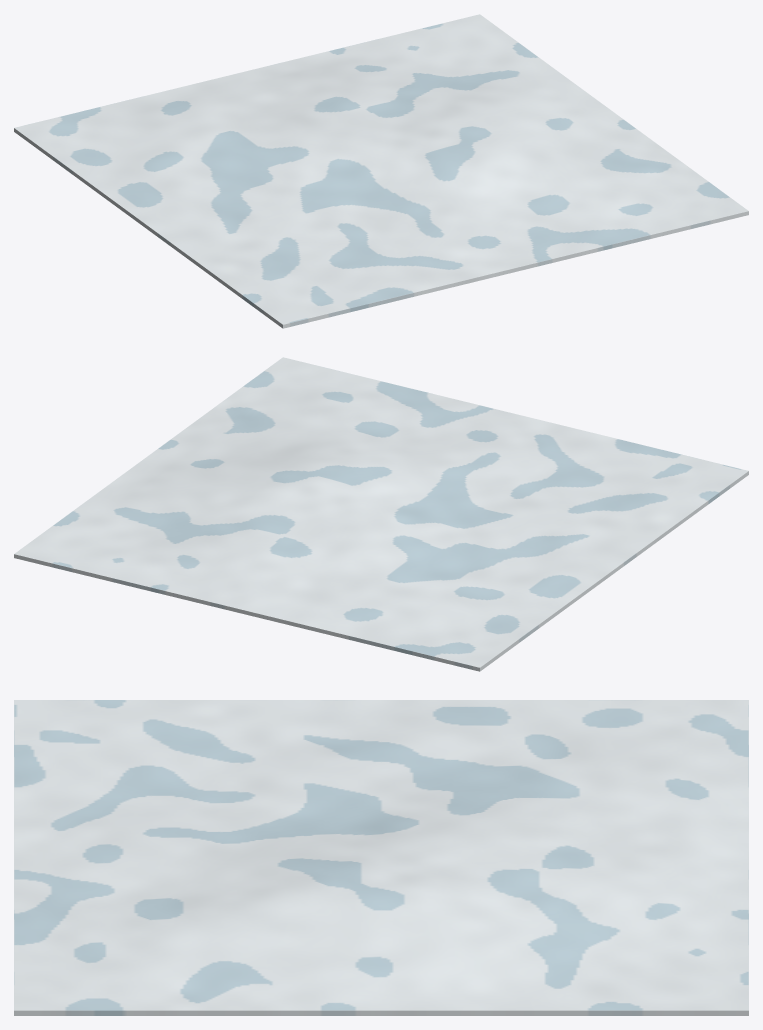
Rendered from Snow_Flat_03.obj.
3 renders of one model, top to bottom at view 1: azimuth 30°, elevation 25°; view 2: azimuth 150°, elevation 25°; view 3: azimuth 270°, elevation 25°, orthographic. The views are drawn at different scales.
Size of the model in its own units: 10 by 0.366 by 10.
Materials: 1 (1 with a texture image).
